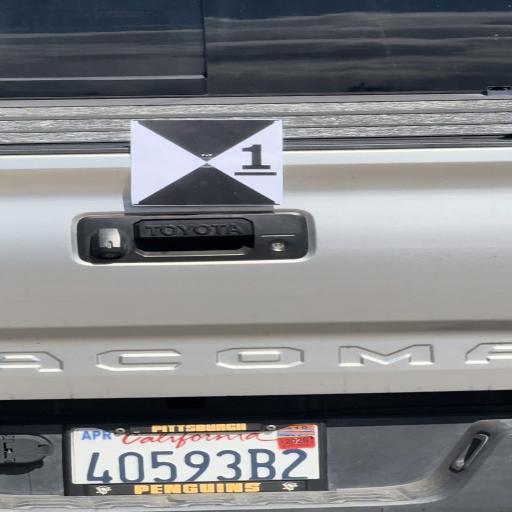target1: (130, 120, 280, 204)
